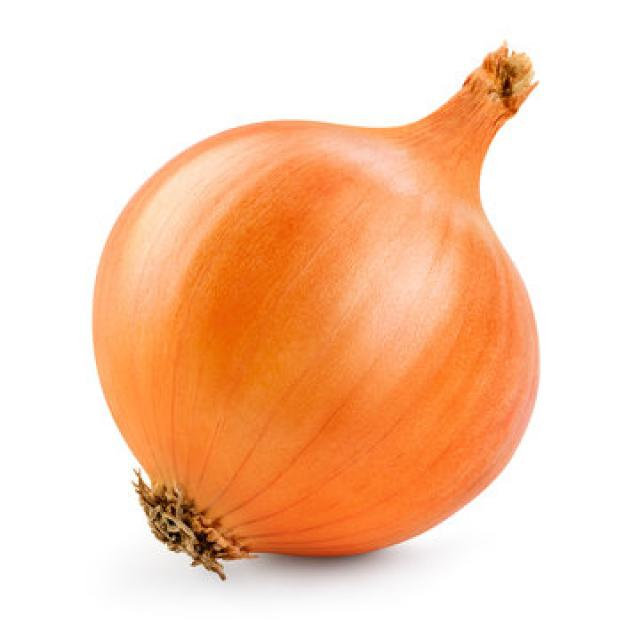Onion: (90, 39, 540, 580)
